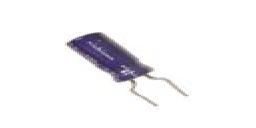Electrolytic-capacitor: (65, 33, 191, 107)
